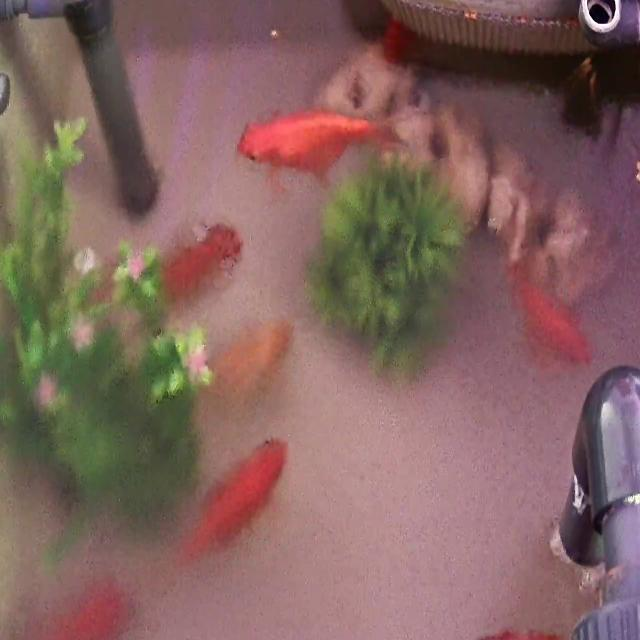fish: (181, 432, 290, 564), (243, 110, 373, 184), (5, 574, 132, 640), (510, 268, 592, 368), (205, 316, 292, 406), (158, 222, 244, 305)
